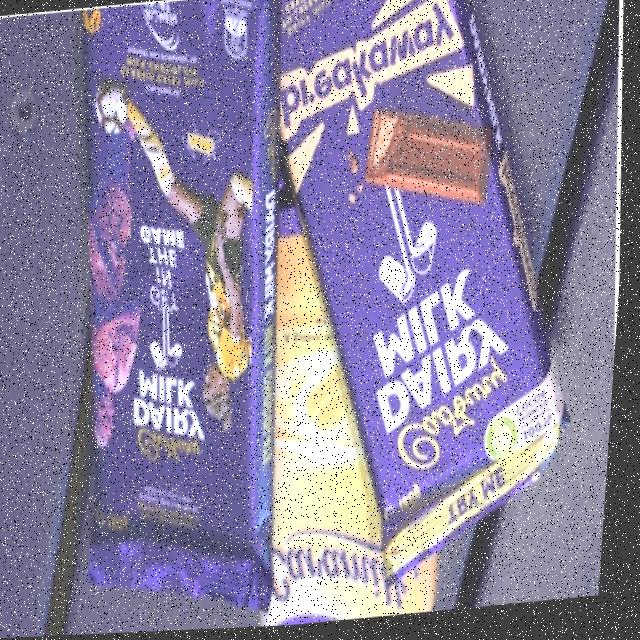cadbury: (250, 0, 604, 599), (65, 0, 314, 610)
